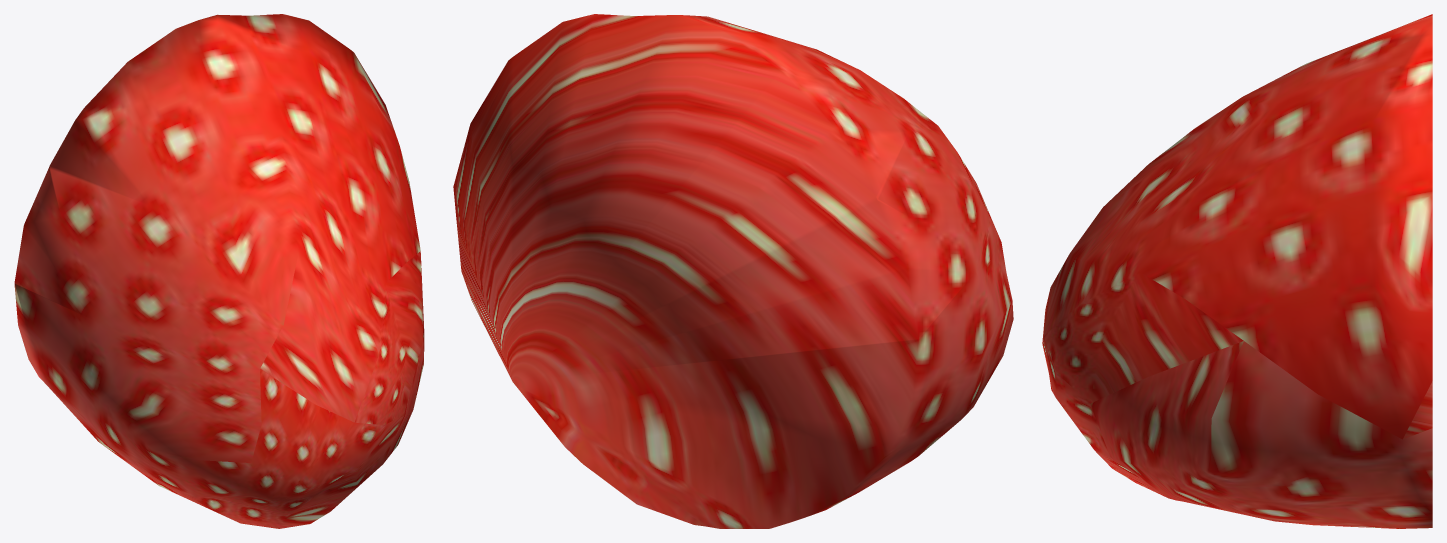
The model's file is strawberry_left.obj.
3 views of the same model, side by side, from view 1: azimuth 30°, elevation 25°; view 2: azimuth 150°, elevation 25°; view 3: azimuth 270°, elevation 25° (orthographic). The views are drawn at different scales.
Visible parts, largest first — view 1: strawberry.002; view 2: strawberry.002; view 3: strawberry.002.
Part boxes in pixels (x1,y1,x2,y2): strawberry.002: (14,14,424,528); strawberry.002: (453,14,1013,528); strawberry.002: (1042,14,1432,528).
Size of the model in its own units: 0.0771 by 0.0814 by 0.0587.
